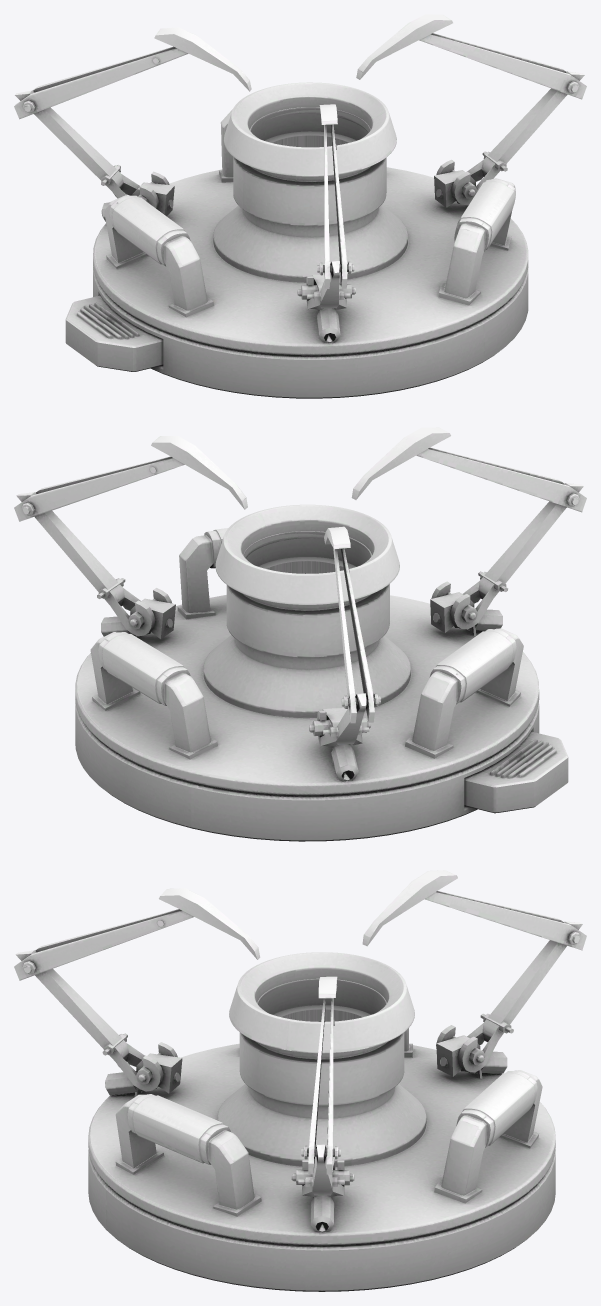
Rendered from 一类设备簇头.glb.
3 renders of one model, top to bottom at view 1: azimuth 30°, elevation 25°; view 2: azimuth 150°, elevation 25°; view 3: azimuth 270°, elevation 25°, orthographic. The views are drawn at different scales.
Parts seen in each view (by area): view 1: Object_2; view 2: Object_2; view 3: Object_2.
Part boxes in pixels (x1,y1,x2,y2): Object_2: [14, 14, 586, 398]; Object_2: [14, 427, 586, 841]; Object_2: [14, 870, 586, 1291].
Size of the model in its own units: 0.4293 by 0.2112 by 0.3951.
1 material, 1 textured.
